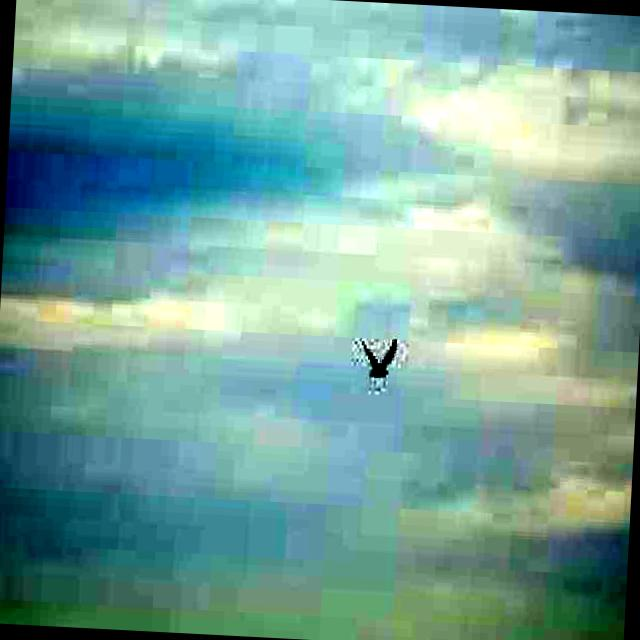bird: (354, 331, 400, 386)
